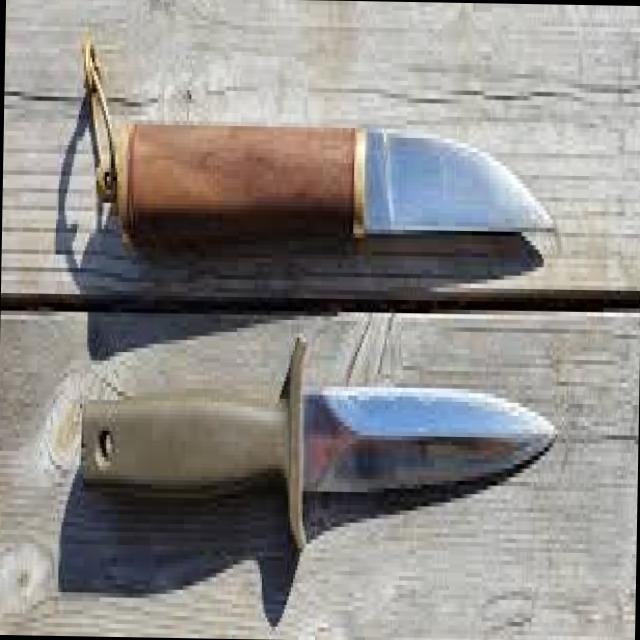Gun: (36, 84, 612, 282), (71, 340, 574, 562)
